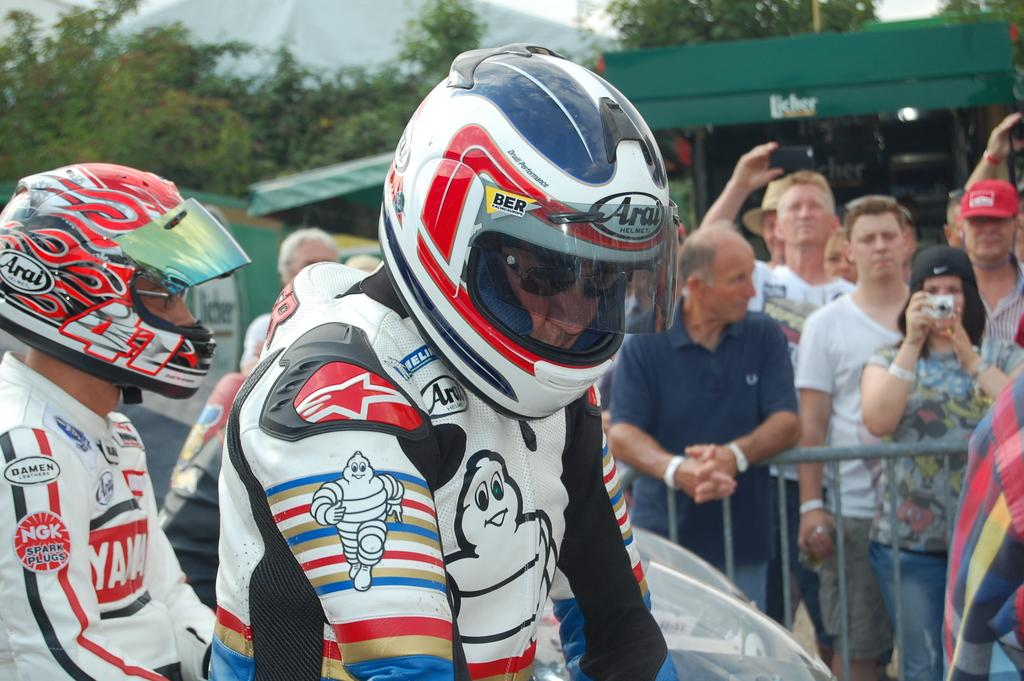helmet: (377, 42, 679, 421), (0, 162, 252, 400)
nohelmet: (676, 223, 758, 326), (908, 244, 979, 339), (843, 198, 910, 286), (955, 178, 1020, 264), (775, 170, 840, 254)
